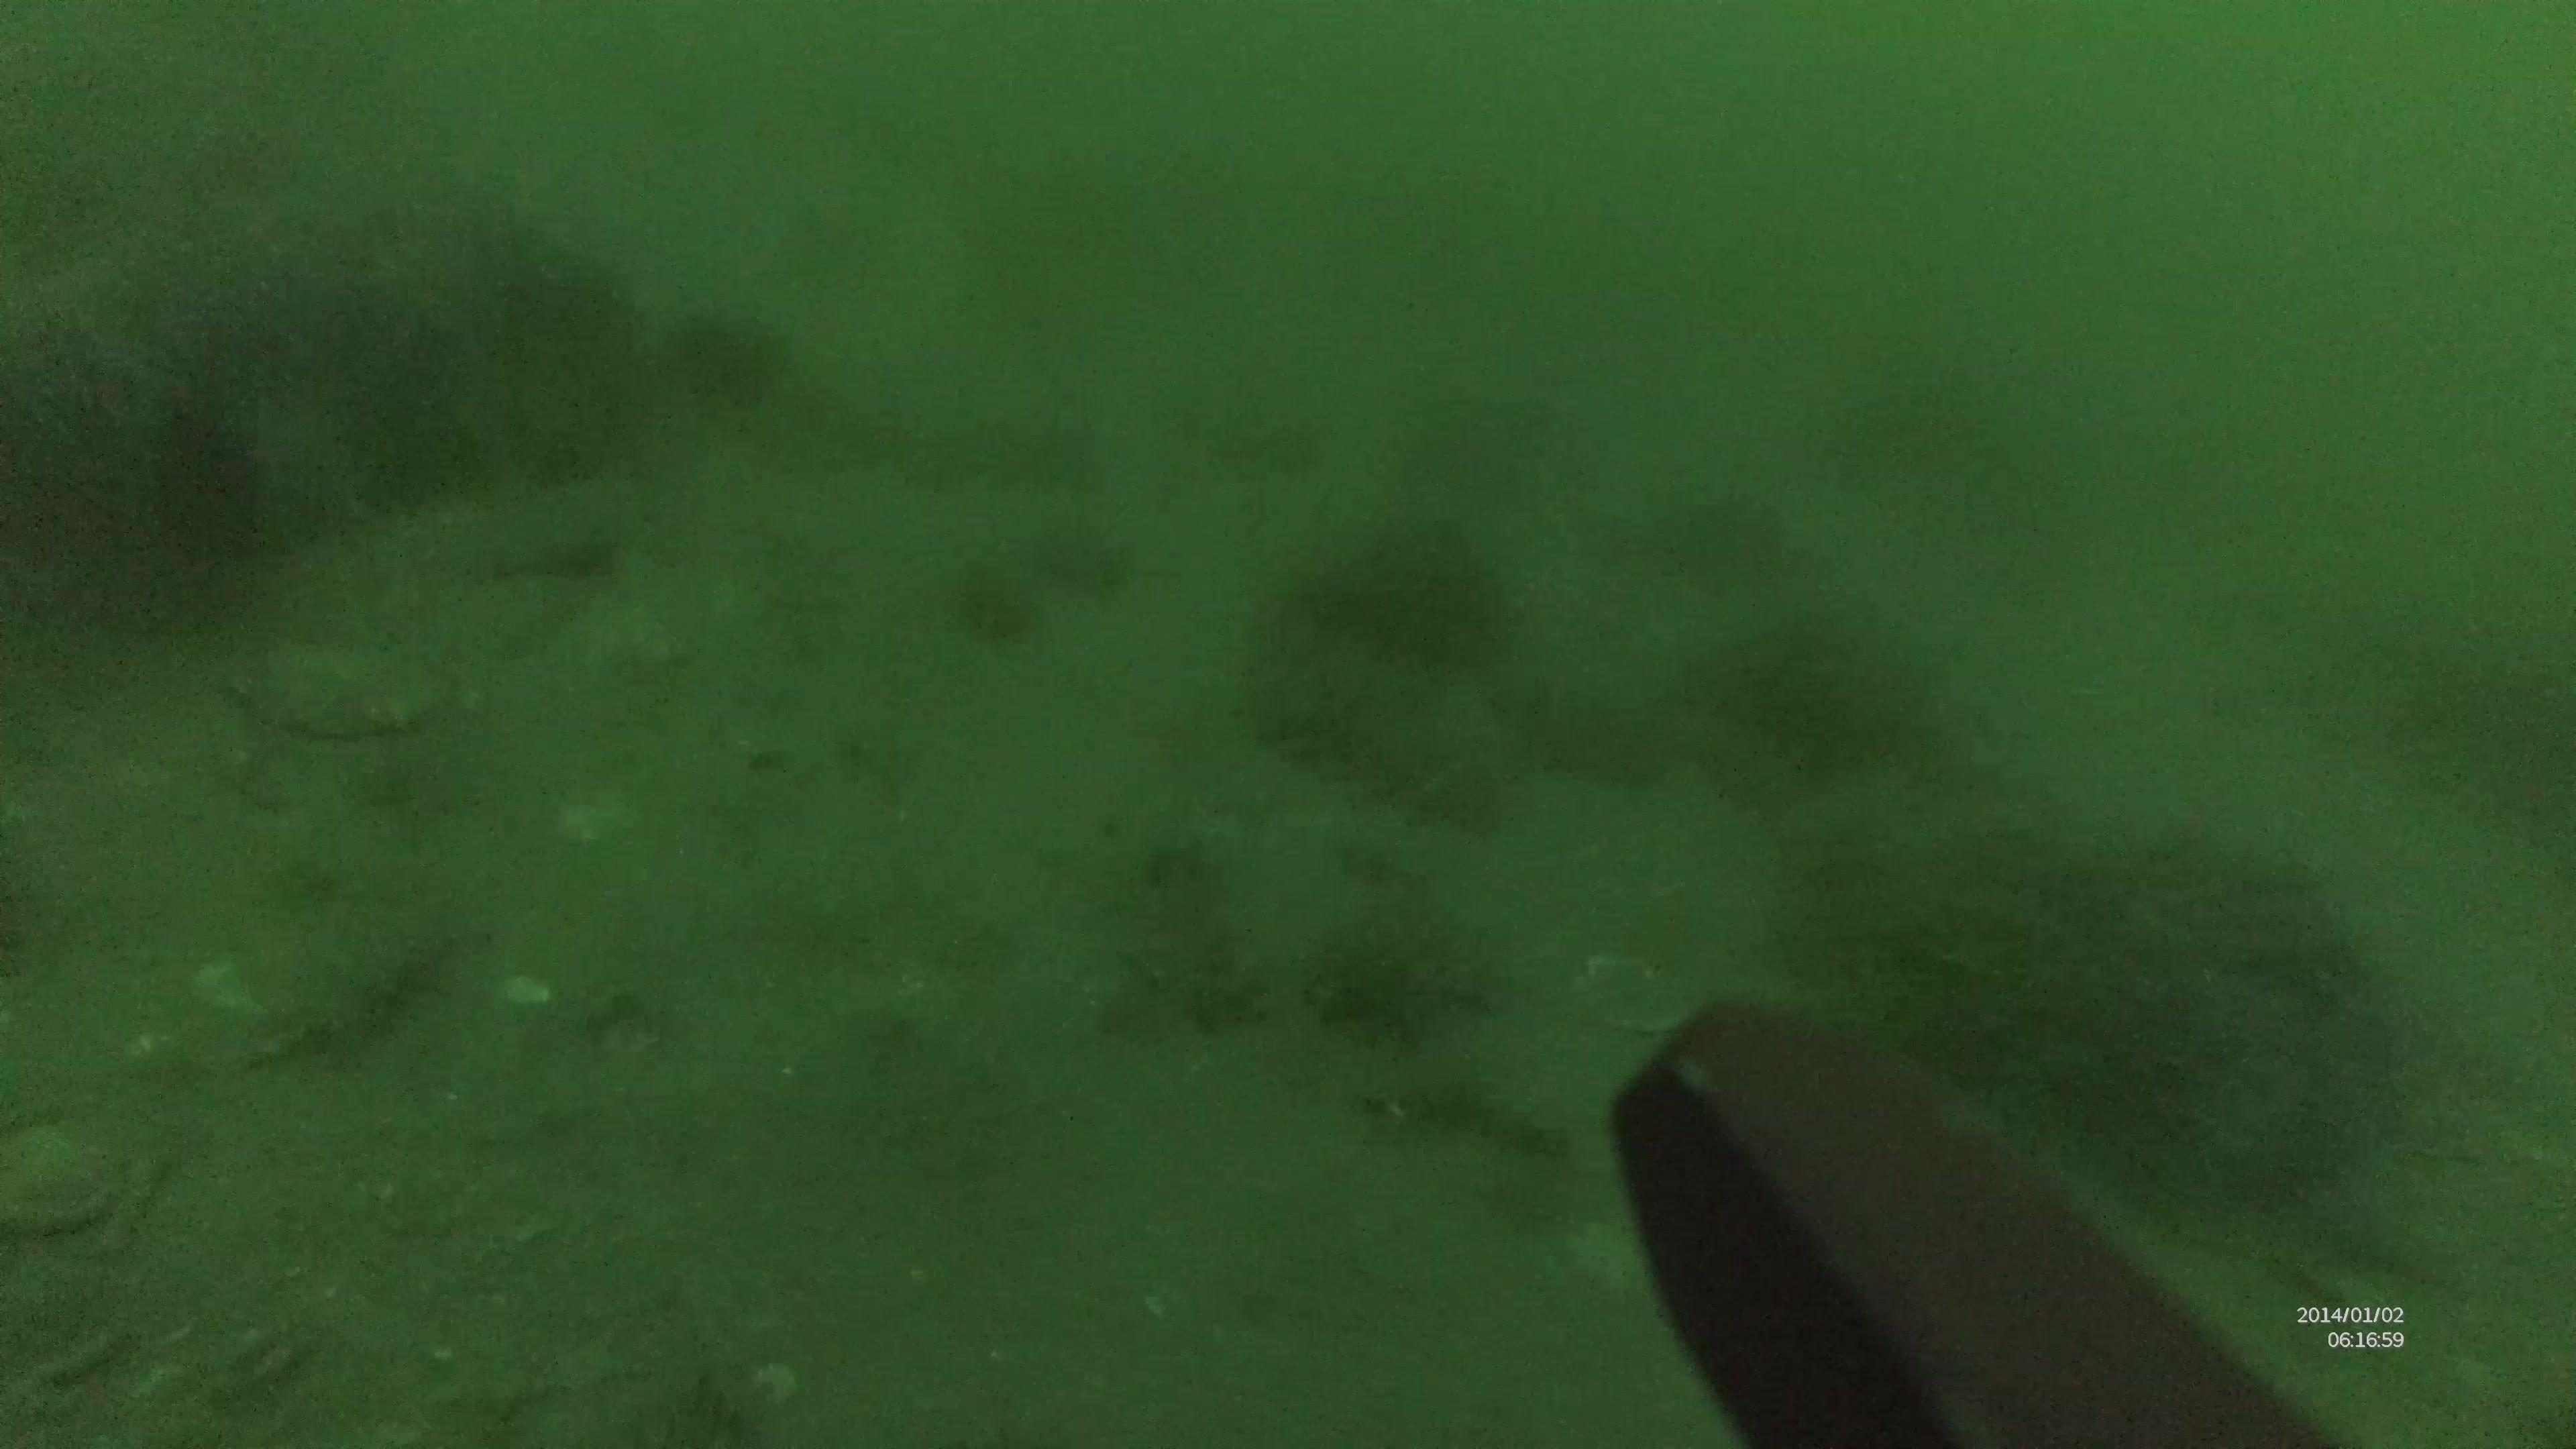holothurian: (235, 642, 453, 747)
scallop: (4, 1123, 136, 1226), (1568, 959, 1691, 1040)
